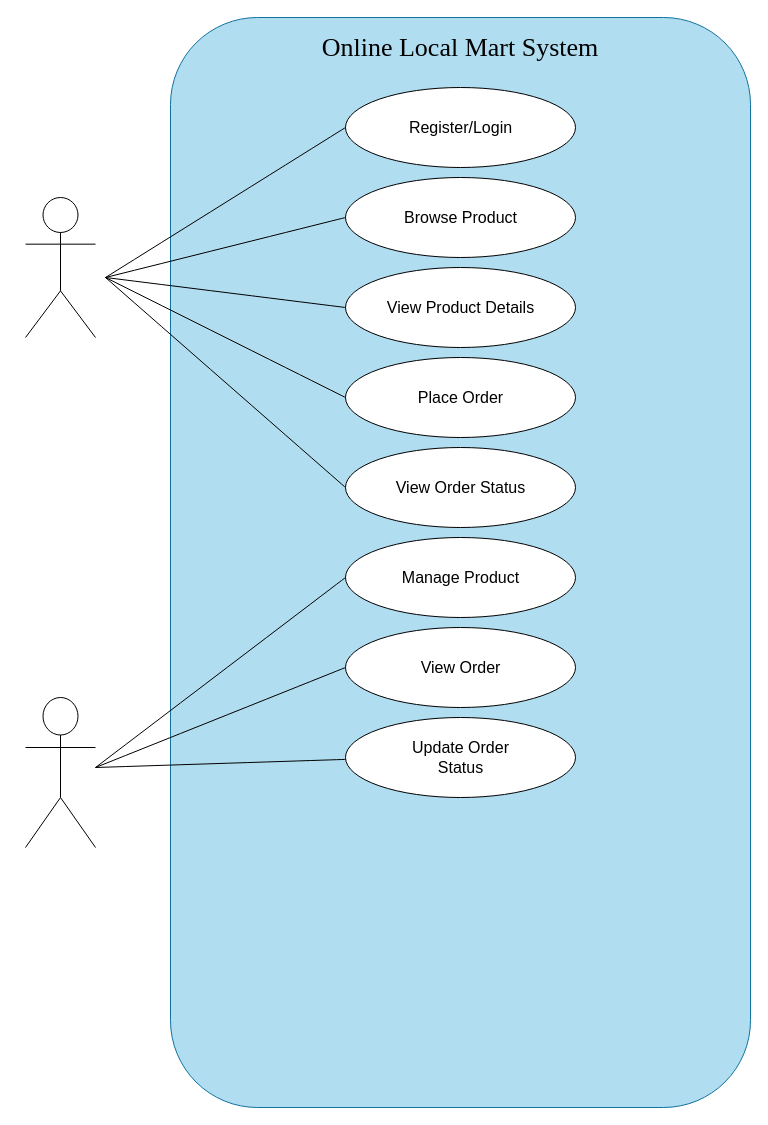
This 768x1125 diagram has some shape labels left out. The centre of each missing label's shape, as x and y in pixels:
Customer: [60,267]
Staff: [60,772]
